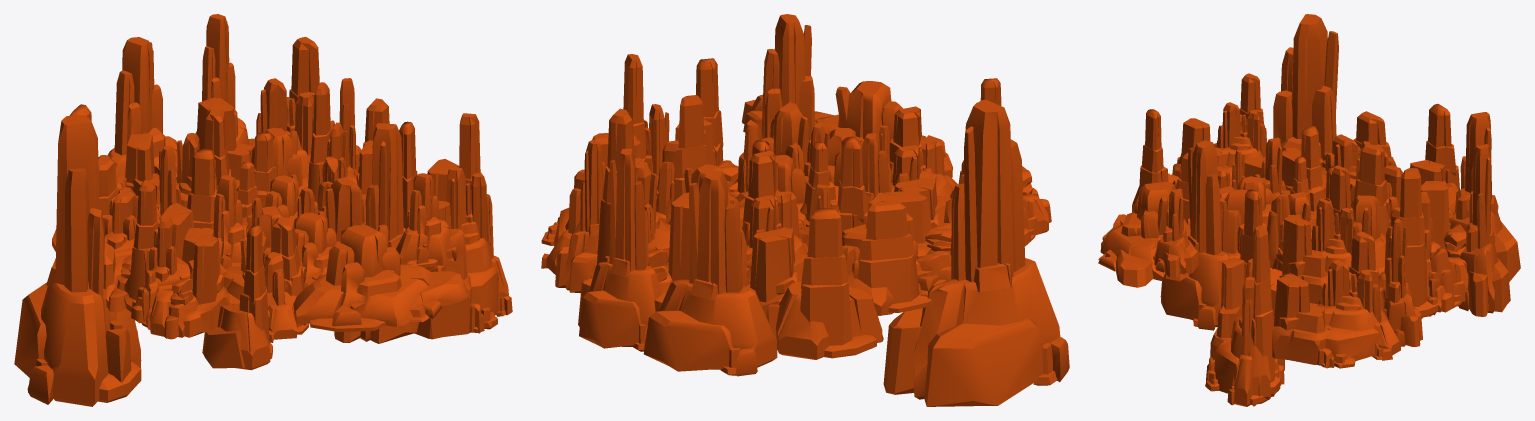
Rendered from Environment_3.fbx.
3 renders of one model, left to right at view 1: azimuth 30°, elevation 25°; view 2: azimuth 150°, elevation 25°; view 3: azimuth 270°, elevation 25°, orthographic. The views are drawn at different scales.
Visible parts, largest first — view 1: Rock_5__15_, Rock_5__14_, Rock_1__6_, Rock_1__3_, Rock_1__7_, Rock_8__6_, Rock_1__4_, Rock_5__7_, Rock_5__13_, Rock_1__1_, Rock_1__2_, Rock_5__2_ (+17 smaller); view 2: Rock_5__15_, Rock_5__7_, Rock_8__3_, Rock_1__1_, Rock_5__8_, Rock_1__2_, Rock_1__7_, Rock_5__13_, Rock_1__4_, Rock_1__5_, Rock_5__3_, Rock_5__14_ (+15 smaller); view 3: Rock_1__8_, Rock_1__3_, Rock_1__7_, Rock_5__13_, Rock_5__15_, Rock_1__5_, Rock_5__14_, Rock_5__8_, Rock_1__6_, Rock_5__7_, Rock_1__2_, Rock_5__3_ (+15 smaller).
Boxes of the visible parts, x1,y1,x2,y2 form: Rock_5__15_: (14, 115, 141, 406); Rock_5__14_: (293, 224, 468, 331); Rock_1__6_: (124, 180, 230, 339); Rock_1__3_: (414, 113, 512, 339); Rock_1__7_: (197, 36, 319, 188); Rock_8__6_: (202, 225, 272, 370); Rock_1__4_: (182, 217, 309, 342); Rock_5__7_: (108, 37, 177, 177); Rock_5__13_: (334, 123, 419, 343); Rock_1__1_: (98, 155, 193, 312); Rock_1__2_: (125, 108, 231, 213); Rock_5__2_: (396, 173, 465, 268); Rock_5__15_: (883, 99, 1069, 406); Rock_5__7_: (643, 170, 777, 376); Rock_8__3_: (766, 208, 883, 359); Rock_1__1_: (842, 190, 951, 315); Rock_5__8_: (578, 148, 661, 351); Rock_1__2_: (742, 150, 808, 315); Rock_1__7_: (591, 108, 690, 293); Rock_5__13_: (761, 14, 814, 161); Rock_1__4_: (889, 106, 957, 228); Rock_1__5_: (656, 95, 738, 223); Rock_5__3_: (555, 140, 605, 293); Rock_5__14_: (815, 81, 952, 177); Rock_1__8_: (1272, 231, 1401, 368); Rock_1__3_: (1205, 225, 1284, 406); Rock_1__7_: (1379, 168, 1468, 318); Rock_5__13_: (1160, 140, 1229, 330); Rock_5__15_: (1273, 14, 1338, 157); Rock_1__5_: (1272, 165, 1358, 304); Rock_5__14_: (1098, 181, 1190, 287); Rock_5__8_: (1458, 144, 1510, 316); Rock_1__6_: (1172, 73, 1266, 177); Rock_5__7_: (1449, 112, 1520, 281); Rock_1__2_: (1350, 144, 1453, 237); Rock_5__3_: (1383, 218, 1422, 346).
Size of the model in its own units: 39253 by 21850 by 36088.
